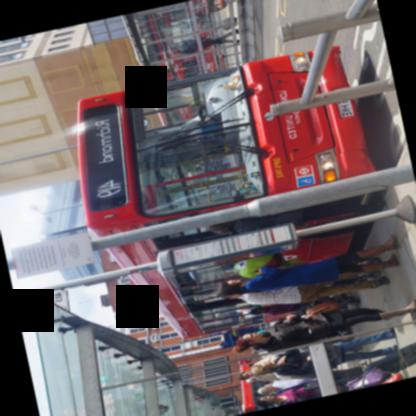backpack: (272, 343, 345, 377)
handbag: (291, 298, 342, 319), (279, 379, 319, 405), (234, 213, 269, 231), (285, 360, 315, 377)
suitcase: (295, 291, 359, 315), (209, 16, 237, 37)
